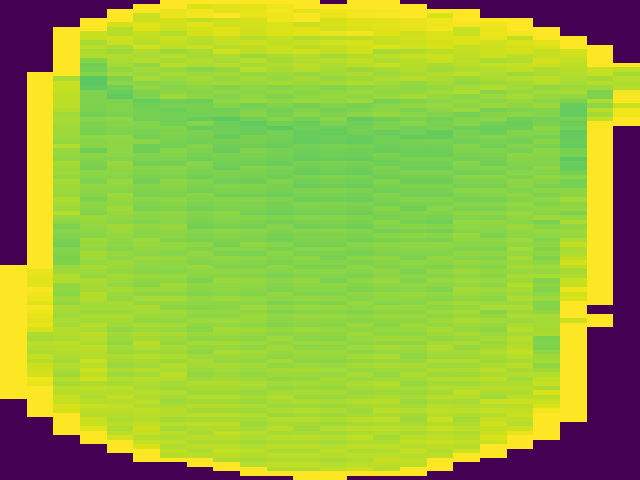cylinder: (6, 5, 640, 480)
